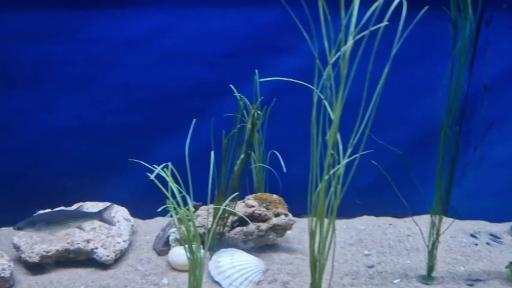Fish: (14, 204, 116, 232)
